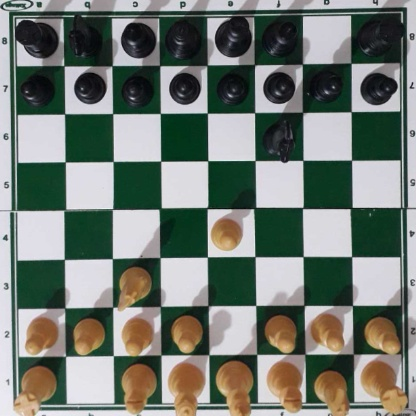black-bishop: (260, 16, 300, 56), (118, 19, 157, 56)
black-king: (213, 13, 253, 58)
black-knight: (263, 116, 296, 161), (68, 11, 100, 56)
black-pawn: (359, 69, 396, 105), (263, 67, 295, 102), (73, 69, 105, 104), (168, 68, 199, 104), (20, 72, 54, 104), (311, 67, 342, 102), (121, 71, 152, 105), (216, 70, 247, 104)
black-queen: (164, 17, 202, 57)
black-rook: (358, 11, 402, 55), (12, 16, 58, 57)
white-bishop: (119, 363, 157, 416), (265, 361, 302, 411)
white-king: (215, 360, 252, 414)
white-knight: (313, 368, 349, 415), (115, 263, 151, 308)
white-pawn: (309, 310, 346, 350), (22, 314, 58, 354), (364, 314, 400, 352), (119, 315, 153, 354), (264, 313, 298, 351), (169, 313, 202, 351), (71, 316, 104, 352), (209, 216, 242, 250)
white-queen: (166, 361, 205, 416)
white-rook: (361, 356, 404, 413), (15, 360, 54, 416)
